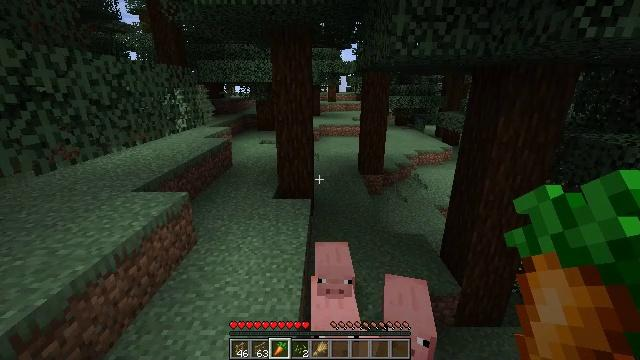pig: (311, 277, 379, 357), (383, 275, 436, 360), (316, 242, 356, 299)
